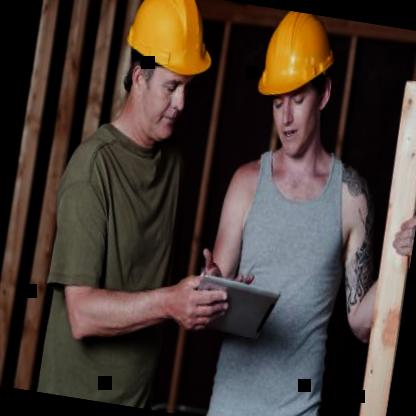helmet: (97, 0, 227, 162), (235, 5, 350, 171)
